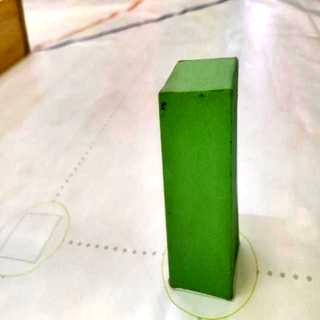greenbox: (159, 56, 243, 303)
